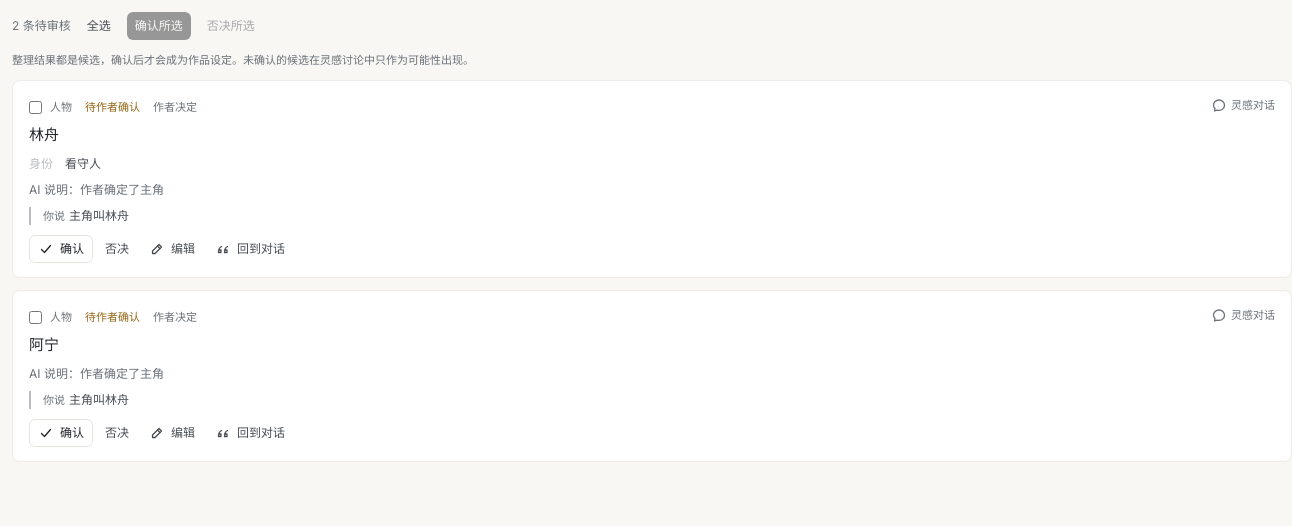
Test: creative proposals › batch-decides atomically and explains alternative conflicts without dropping items
The width and height of the screenshot is (1292, 526).
Expected: the element named "人物：林舟" is shown, [12,80,1291,278]
Click the button "全选".
click(99, 26)  # box [79,12,119,40]
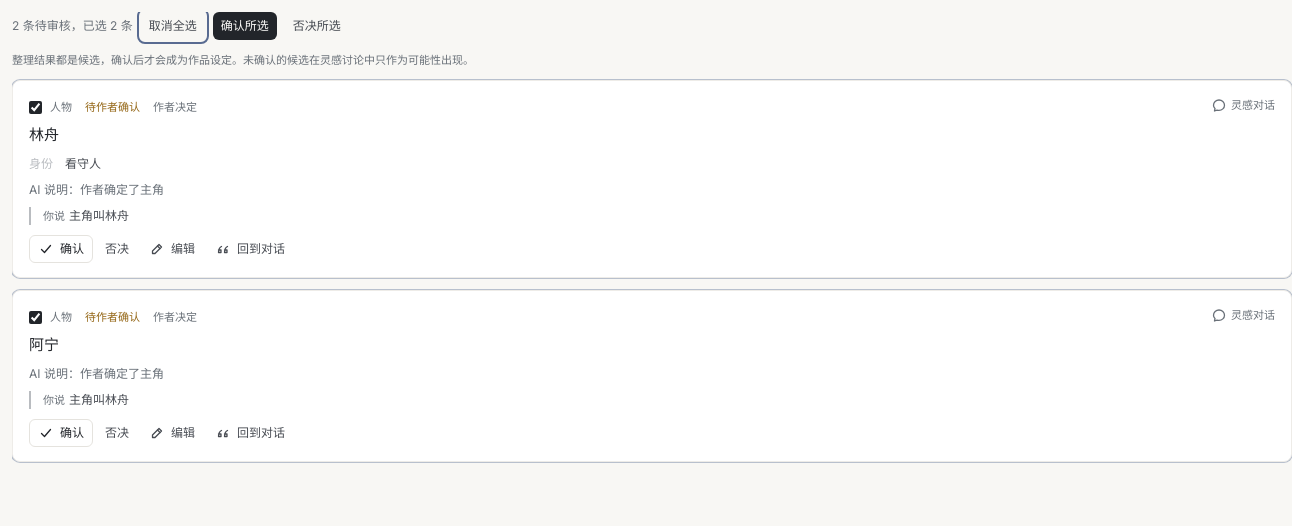
Click the button "确认所选".
click(245, 26)  # box [213,12,277,40]
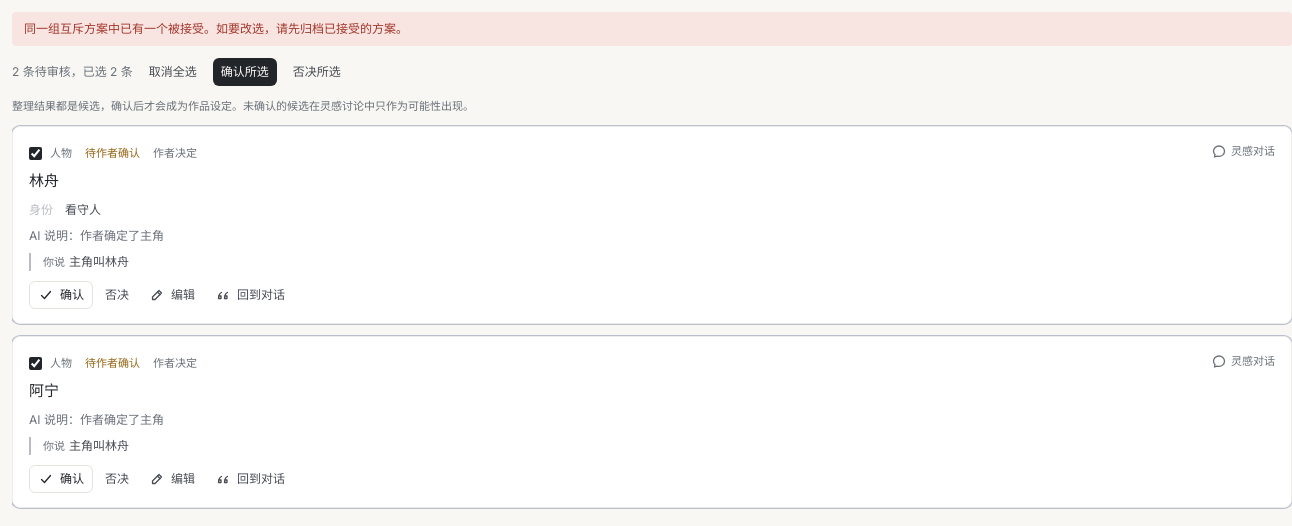
Result: the text "同一组互斥方案中已有一个被接受。如要改选，请先归档已接受的方案。" is shown at [12,12,1291,46]
